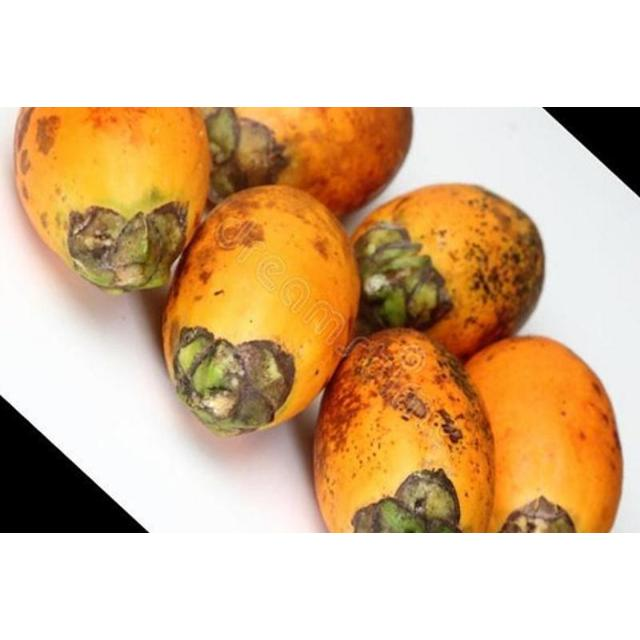good: (165, 187, 355, 436), (316, 330, 496, 532), (17, 111, 205, 289), (353, 185, 542, 357), (464, 337, 618, 529), (208, 108, 410, 220)
